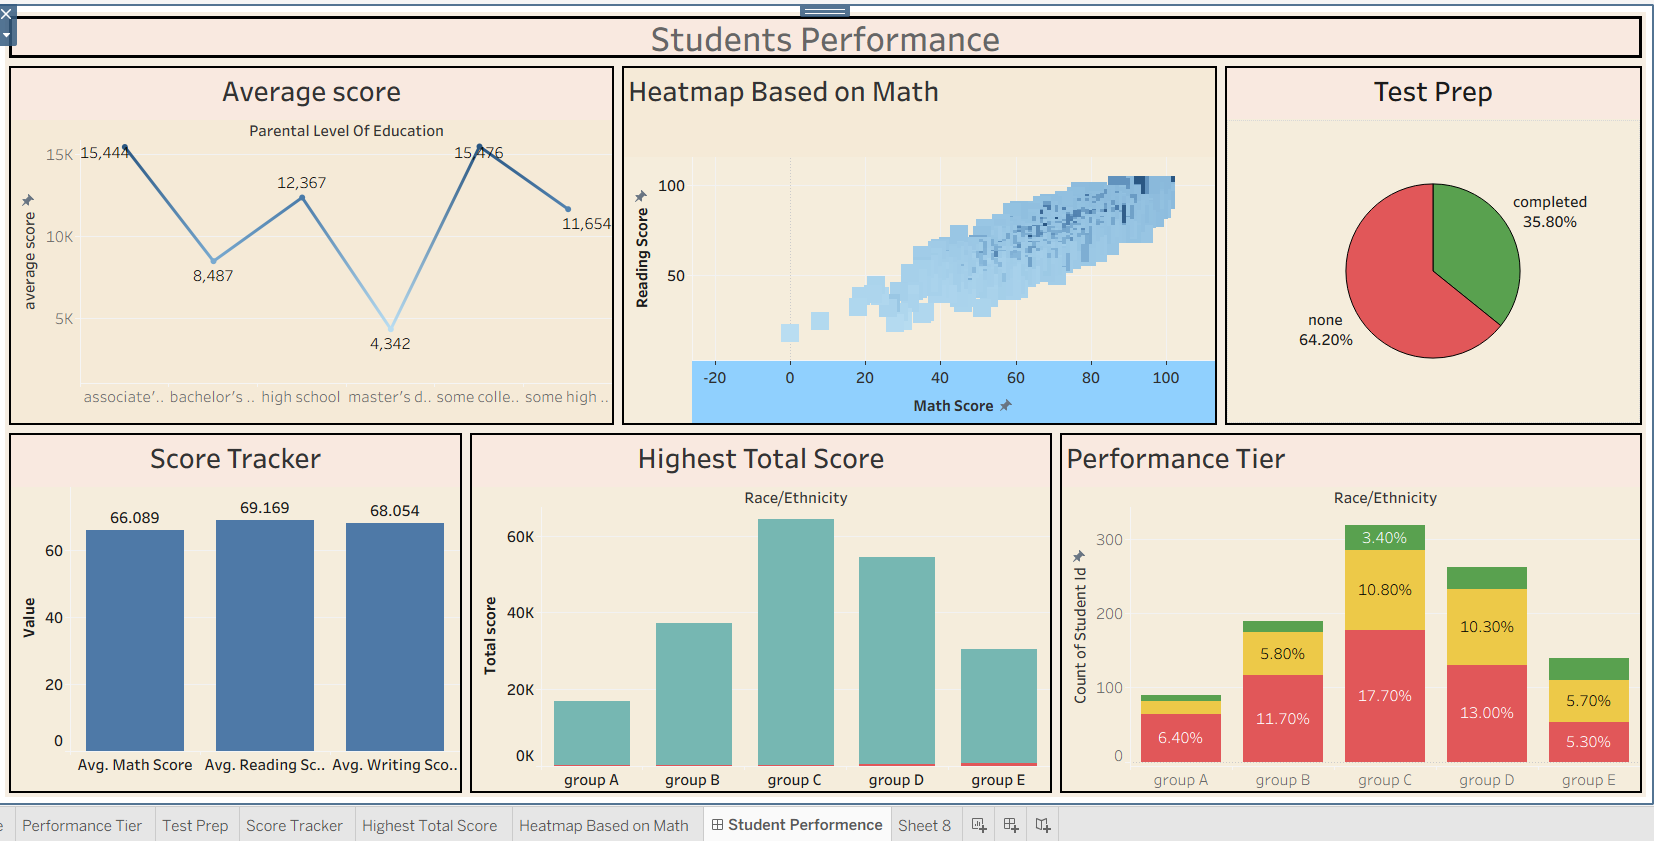

The page's visual inventory and layout, read from the dashboard file:
{"tool":"tableau","page":{"name":"Student Performence","canvas":[1000,1000],"units":"permille","ordinal":0},"visuals":[{"type":"text","box":[4.8,10,990.3,62.4]},{"type":"worksheet","title":"Average score","mark":"Line","rows":["Calculation_1160239907395727360"],"cols":["parental level of education"],"box":[4.8,72.4,369.9,458.8]},{"type":"worksheet","title":"Heatmap Based on Math","mark":"Square","rows":["reading score"],"cols":["math score"],"box":[374.7,72.4,363.9,458.8]},{"type":"worksheet","title":"Test Prep","mark":"Pie","box":[738.6,72.4,256.5,458.8]},{"type":"worksheet","title":"Score Tracker","mark":"Bar","box":[4.8,531.2,278.2,458.8]},{"type":"worksheet","title":"Highest Total Score","mark":"Bar","rows":["Calculation_1160239907413839877"],"cols":["race/ethnicity"],"box":[283,531.2,356.1,458.8]},{"type":"worksheet","title":"Performance Tier","mark":"Bar","rows":["Calculation_1160239907399581698"],"cols":["race/ethnicity"],"box":[639.1,531.2,356.1,458.8]}]}

Visuals, with their boxes on the dashboard's canvas, which has no fixed pixel size, in thousandths of its width and height (x1, y1, x2, y2). These are canvas units, not pixel positions in the 1654x841 screenshot, which may show the page scaled, cropped or inside an application window:
text: box=[5, 10, 995, 72]
"Average score" worksheet (Line marks): box=[5, 72, 375, 531]
"Heatmap Based on Math" worksheet (Square marks): box=[375, 72, 739, 531]
"Test Prep" worksheet (Pie marks): box=[739, 72, 995, 531]
"Score Tracker" worksheet (Bar marks): box=[5, 531, 283, 990]
"Highest Total Score" worksheet (Bar marks): box=[283, 531, 639, 990]
"Performance Tier" worksheet (Bar marks): box=[639, 531, 995, 990]
